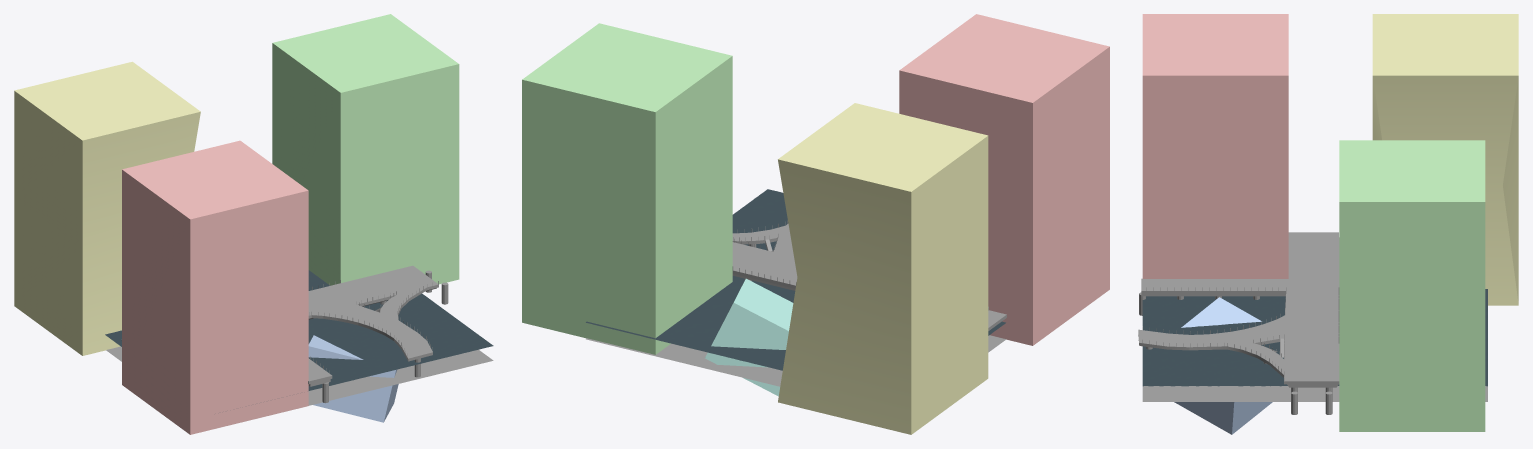
The model's file is eislato_MAP_lostcity_P.fbx.
3 views of the same model, side by side, from view 1: azimuth 30°, elevation 25°; view 2: azimuth 150°, elevation 25°; view 3: azimuth 270°, elevation 25° (orthographic). The views are drawn at different scales.
Visible parts, largest first — view 1: pCube12, pCube17, pCube13, suimen2, pCube2, jimen, pCube14; view 2: pCube17, pCube13, pCube12, suimen2, pCube8, pCube2, jimen; view 3: pCube17, pCube12, pCube13, pCube2, suimen2, jimen, pCube6, pCube14, pCube5, pCube7.
Boxes of the visible parts, left/top/right/bottom form: pCube12: left=122, top=140, right=308, bottom=434; pCube17: left=272, top=14, right=459, bottom=285; pCube13: left=14, top=61, right=200, bottom=355; suimen2: left=105, top=270, right=493, bottom=390; pCube2: left=308, top=265, right=438, bottom=361; jimen: left=106, top=346, right=493, bottom=405; pCube14: left=308, top=335, right=398, bottom=422; pCube17: left=522, top=23, right=732, bottom=354; pCube13: left=778, top=103, right=988, bottom=434; pCube12: left=899, top=14, right=1109, bottom=345; suimen2: left=586, top=189, right=1005, bottom=370; pCube8: left=705, top=278, right=793, bottom=396; pCube2: left=732, top=223, right=988, bottom=310; jimen: left=586, top=335, right=1005, bottom=386; pCube17: left=1339, top=140, right=1485, bottom=431; pCube12: left=1142, top=14, right=1288, bottom=278; pCube13: left=1372, top=14, right=1518, bottom=305; pCube2: left=1138, top=237, right=1339, bottom=384; suimen2: left=1142, top=289, right=1487, bottom=386; jimen: left=1142, top=386, right=1487, bottom=401; pCube6: left=1141, top=278, right=1339, bottom=293; pCube14: left=1174, top=297, right=1272, bottom=434; pCube5: left=1287, top=232, right=1338, bottom=387; pCube7: left=1141, top=294, right=1285, bottom=296.
Bounding box in the file's own units: 129 × 93.59 × 110.
